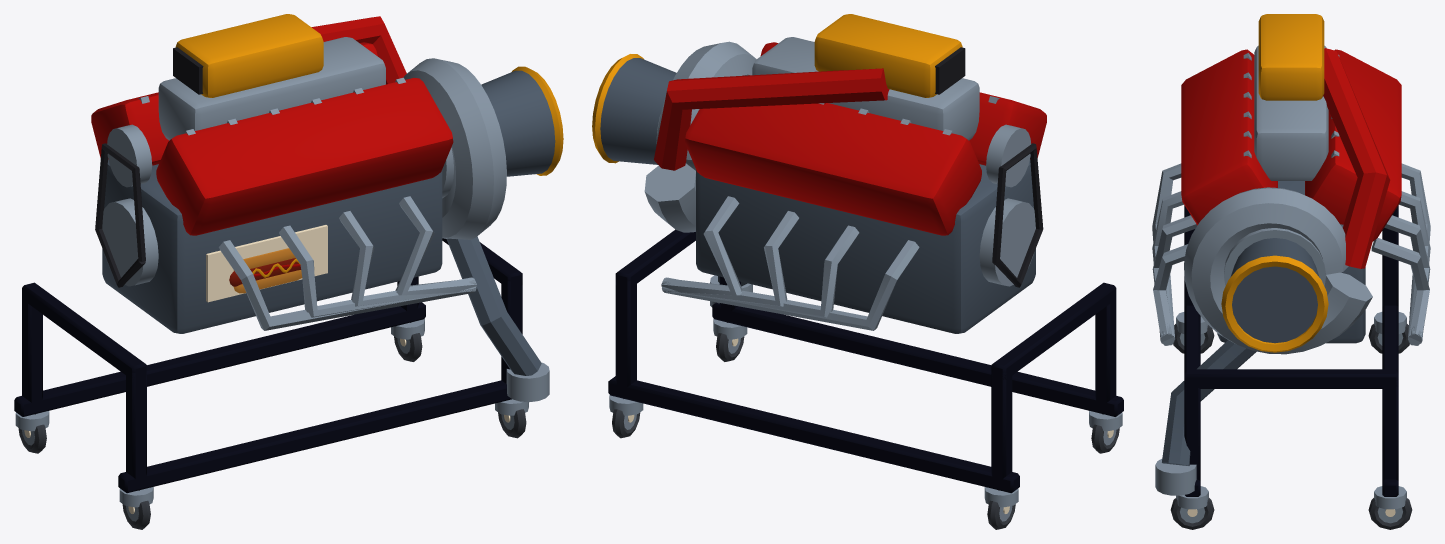
The model's file is TurboEngine.fbx.
The picture shows the model from 3 angles, left to right: view 1: azimuth 30°, elevation 25°; view 2: azimuth 150°, elevation 25°; view 3: azimuth 270°, elevation 25°; orthographic projection. The views are drawn at different scales.
Parts seen in each view (by area): view 1: TurboEngine; view 2: TurboEngine; view 3: TurboEngine.
Boxes of the visible parts, bbox=[...] form: TurboEngine: bbox=[14, 14, 563, 529]; TurboEngine: bbox=[592, 14, 1123, 529]; TurboEngine: bbox=[1152, 14, 1430, 529].
Size of the model in its own units: 6.12 by 5.27 by 3.38.
